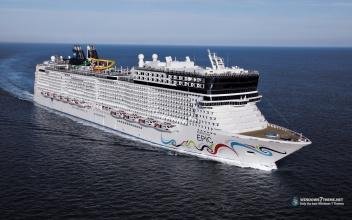youlun: (25, 41, 311, 167)
